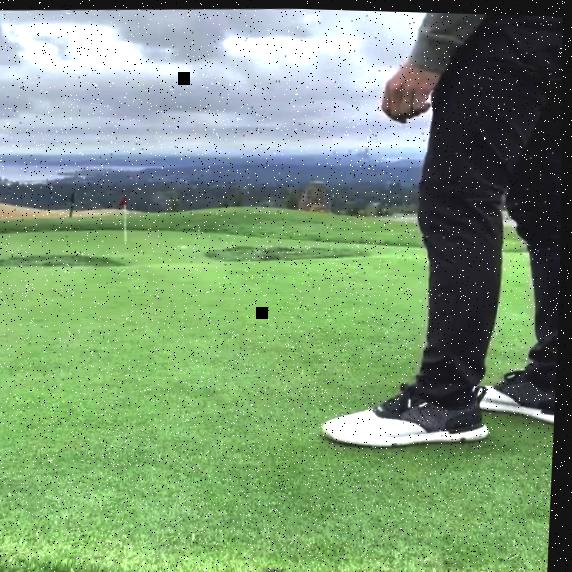GolfBall: (182, 243, 188, 247)
